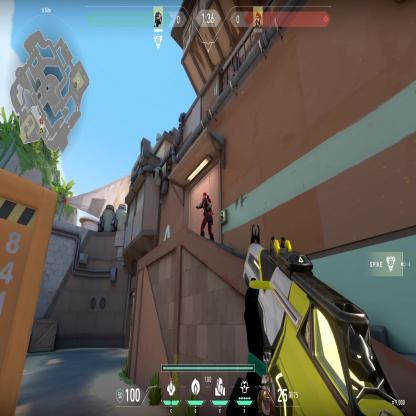enemy: (194, 190, 216, 242)
